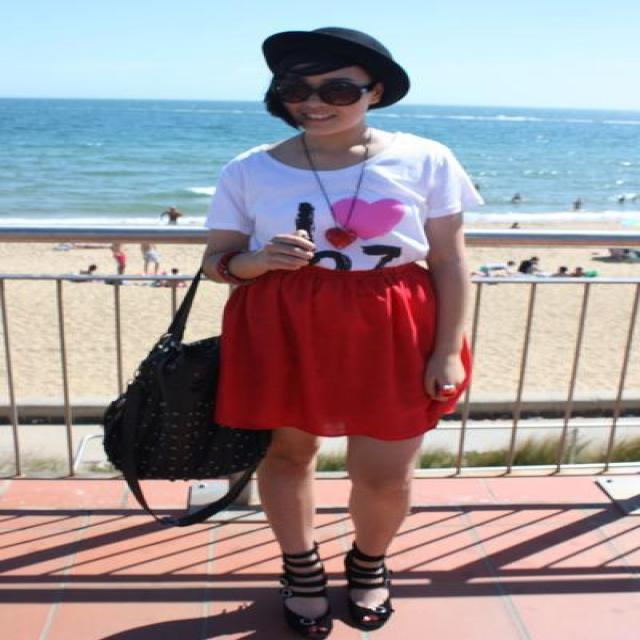bag: (100, 269, 274, 536)
hat: (262, 28, 408, 109)
shirt: (211, 128, 482, 276)
shoe: (276, 550, 394, 639)
skirt: (214, 269, 478, 439)
sunglass: (266, 74, 378, 105)
